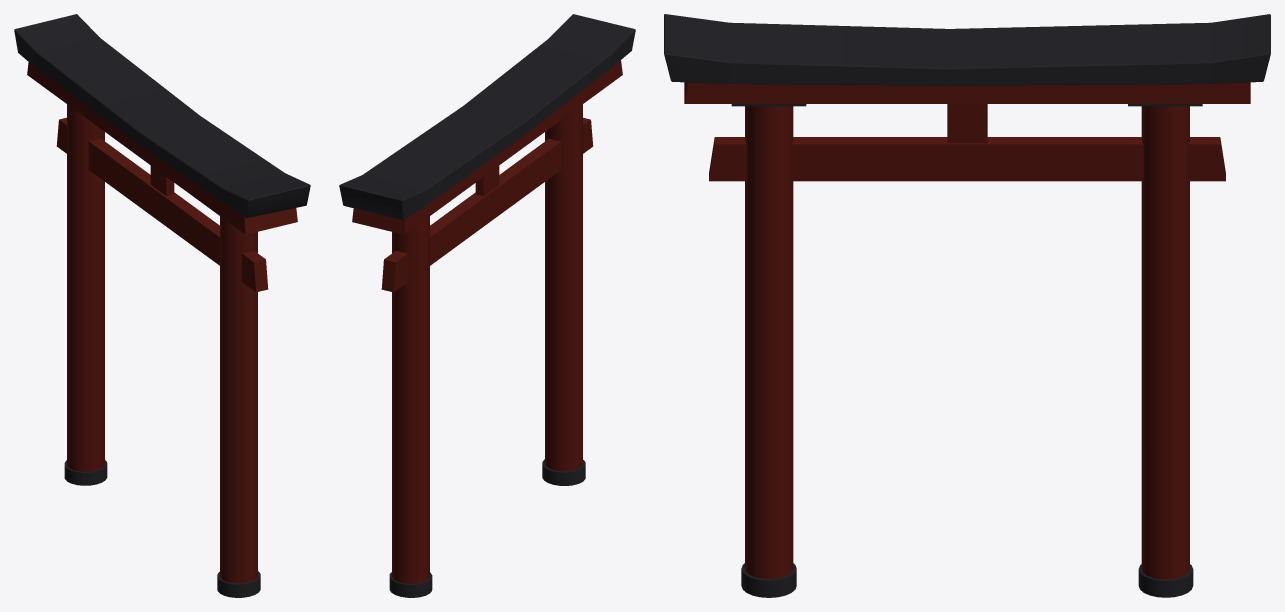
File: arch02.fbx
3 renders of one model, left to right at view 1: azimuth 30°, elevation 25°; view 2: azimuth 150°, elevation 25°; view 3: azimuth 270°, elevation 25°, orthographic. The views are drawn at different scales.
Parts seen in each view (by area): view 1: arch02; view 2: arch02; view 3: arch02.
Boxes of the visible parts, <box> form: arch02: <box>14,14,310,597</box>; arch02: <box>339,14,635,597</box>; arch02: <box>664,14,1270,597</box>.
Size of the model in its own units: 185 by 1186 by 1181.
